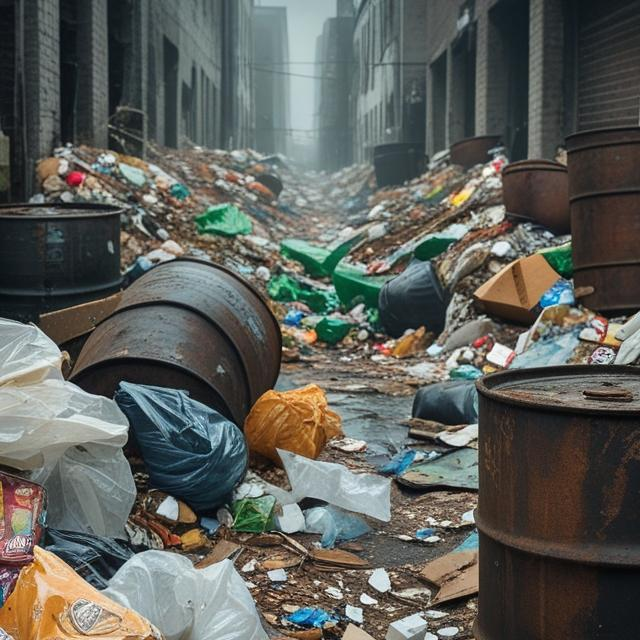metal: (483, 384, 640, 640), (568, 139, 640, 284)
plastic: (121, 381, 252, 511), (0, 346, 102, 464)
